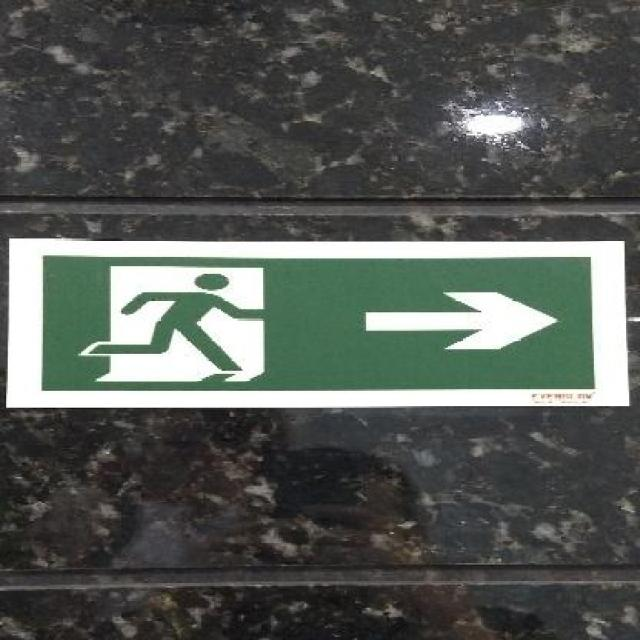exit_sign: (3, 222, 639, 429)
